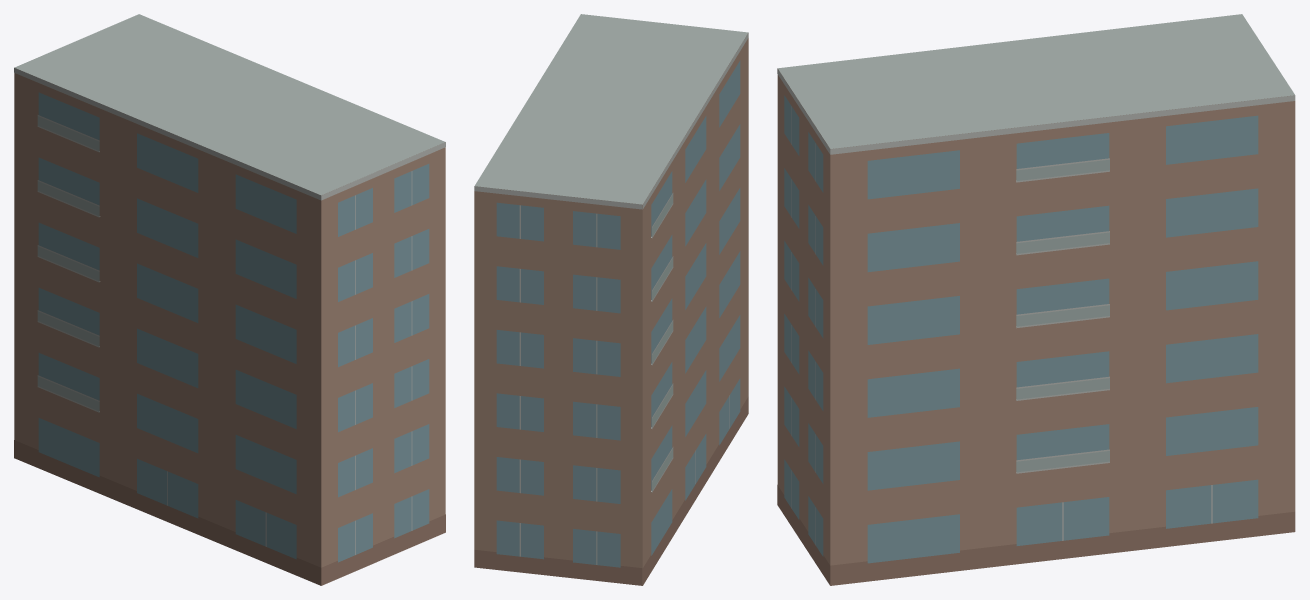
Rendered from survey-upis-32916876.glb.
The picture shows the model from 3 angles, left to right: view 1: azimuth 30°, elevation 25°; view 2: azimuth 150°, elevation 25°; view 3: azimuth 270°, elevation 25°; orthographic projection. The views are drawn at different scales.
Parts seen in each view (by area): view 1: survey-upis-32916876.tmp; view 2: survey-upis-32916876.tmp; view 3: survey-upis-32916876.tmp.
Boxes of the visible parts, x1,y1,x2,y2 form: survey-upis-32916876.tmp: [14, 14, 445, 585]; survey-upis-32916876.tmp: [474, 14, 748, 585]; survey-upis-32916876.tmp: [777, 14, 1295, 585].
Size of the model in its own units: 12.35 by 18.6 by 19.99.
